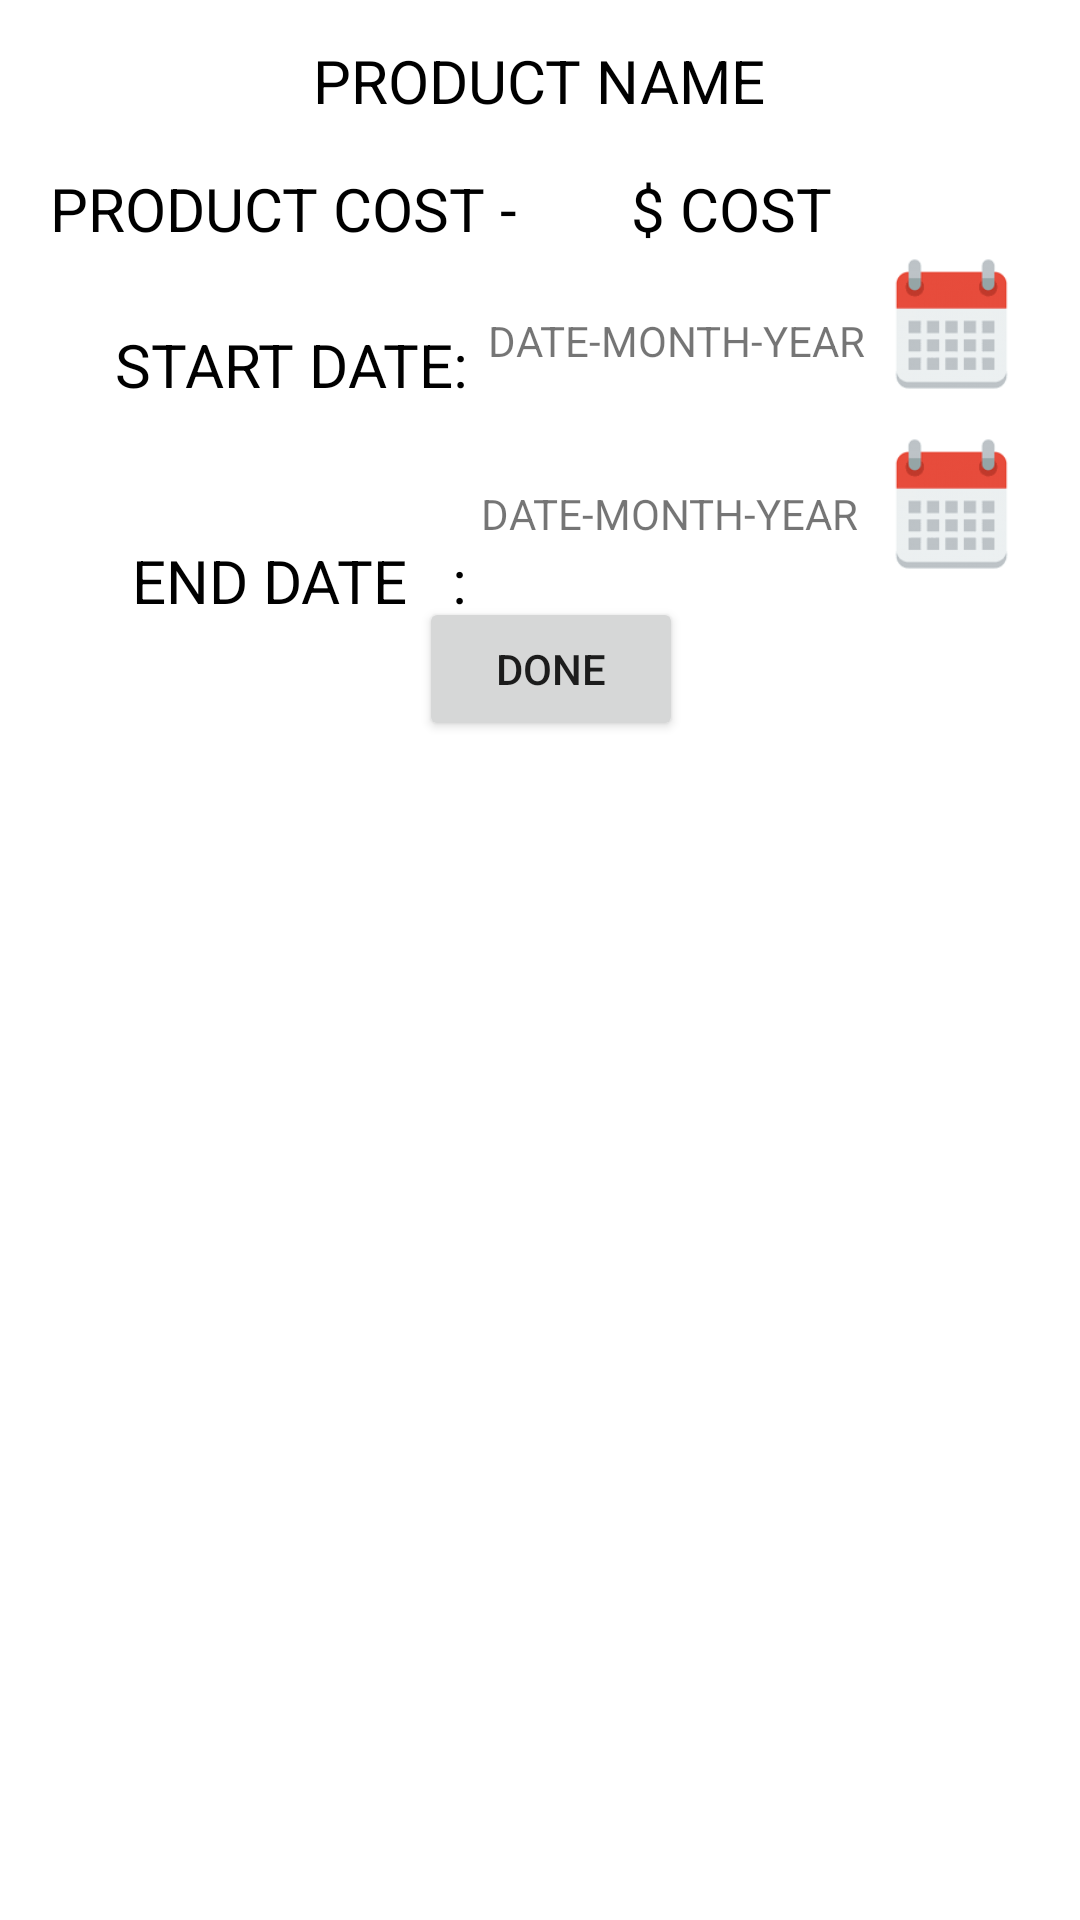

Icon bounding boxes for this 1080 × 1920 phone screenshot, format (x1, y1, x2, y2):
calender: (896, 259, 1007, 389), (896, 439, 1007, 569)
